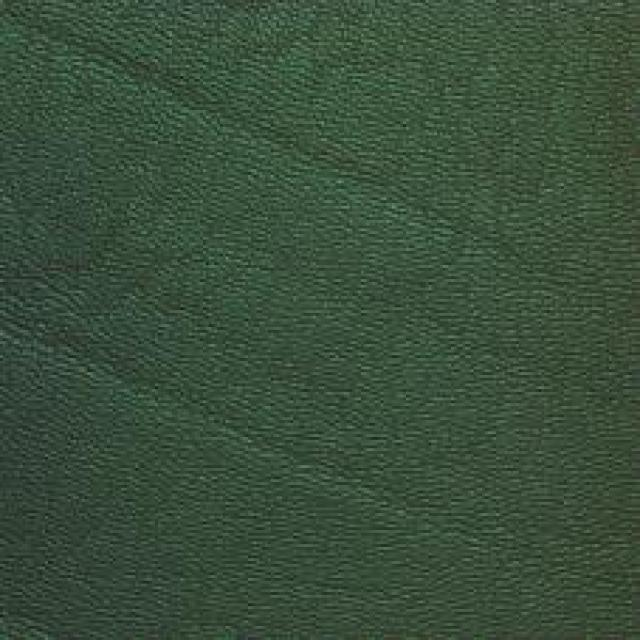Growth Marks: (38, 312, 474, 562), (83, 41, 526, 265)
